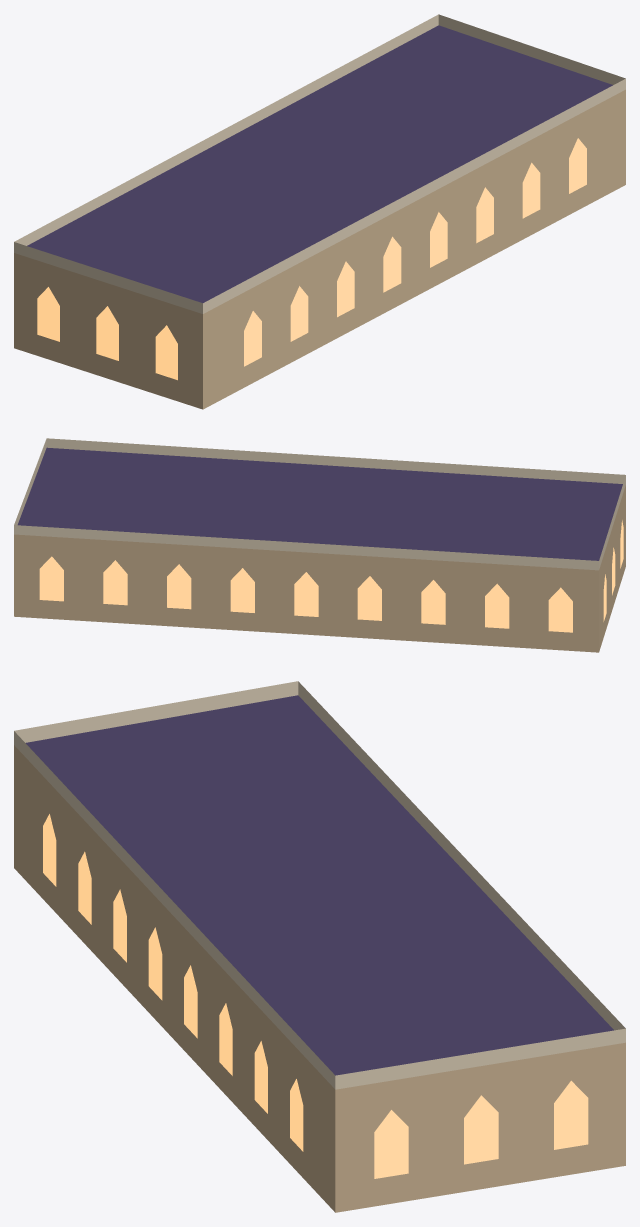
The picture shows the model from 3 angles, top to bottom: view 1: azimuth 30°, elevation 25°; view 2: azimuth 150°, elevation 25°; view 3: azimuth 270°, elevation 25°; orthographic projection. The views are drawn at different scales.
Visible parts, largest first — view 1: campus/b-031-0; view 2: campus/b-031-0; view 3: campus/b-031-0.
Boxes of the visible parts, x1,y1,x2,y2 form: campus/b-031-0: (14, 14, 625, 409); campus/b-031-0: (14, 438, 625, 652); campus/b-031-0: (14, 681, 625, 1212).
Size of the model in its own units: 32.97 by 5.35 by 21.62.
